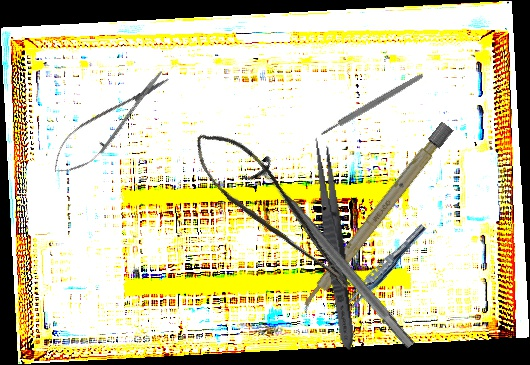Dressing Forceps: (308, 135, 360, 353)
Fixation Ring: (240, 153, 426, 359)
Micro Scissor: (182, 113, 358, 315), (42, 60, 178, 186)
Scalpel Handle: (297, 121, 454, 316), (319, 71, 425, 138)
Tissue Forceps: (336, 220, 430, 320)
